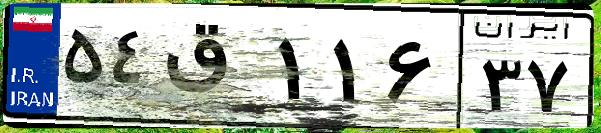1: (270, 28, 330, 110), (330, 28, 385, 110)
3: (475, 38, 525, 113)
4: (110, 28, 158, 98)
5: (57, 26, 110, 100)
6: (385, 28, 445, 110)
7: (525, 38, 570, 115)
ق: (158, 20, 270, 120)
